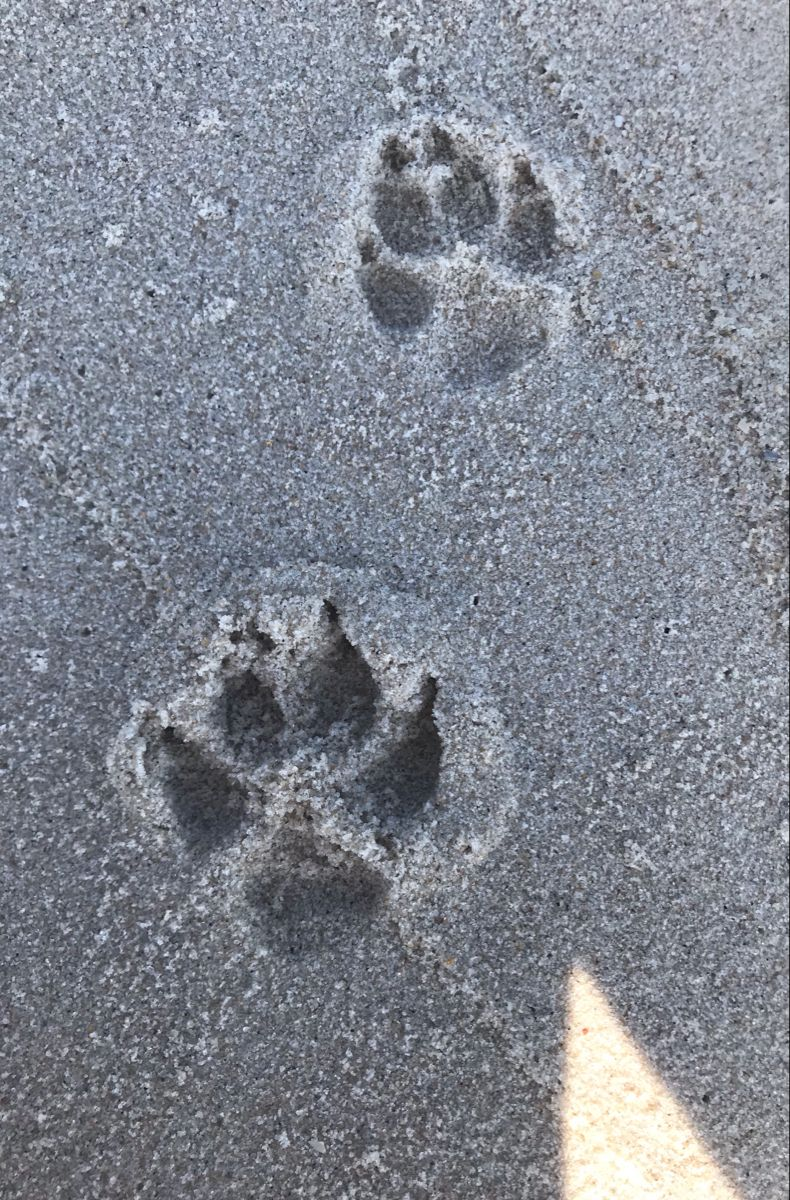chien: (136, 604, 475, 947), (352, 123, 604, 398)
